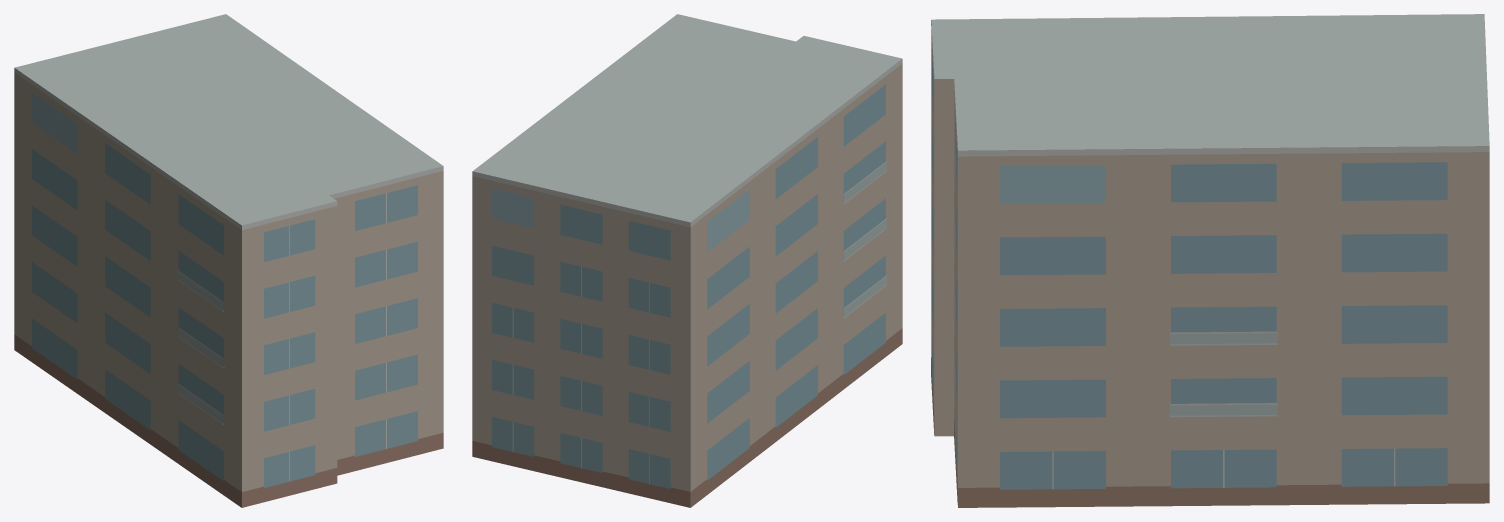
The model's file is survey-upis-32745937.glb.
3 renders of one model, left to right at view 1: azimuth 30°, elevation 25°; view 2: azimuth 150°, elevation 25°; view 3: azimuth 270°, elevation 25°, orthographic. The views are drawn at different scales.
Visible parts, largest first — view 1: survey-upis-32745937.tmp; view 2: survey-upis-32745937.tmp; view 3: survey-upis-32745937.tmp.
Boxes of the visible parts, left/top/right/bottom form: survey-upis-32745937.tmp: left=14, top=14, right=443, bottom=507; survey-upis-32745937.tmp: left=472, top=14, right=902, bottom=507; survey-upis-32745937.tmp: left=931, top=14, right=1489, bottom=507.
Bounding box in the file's own units: 11.89 × 14.5 × 20.55.
